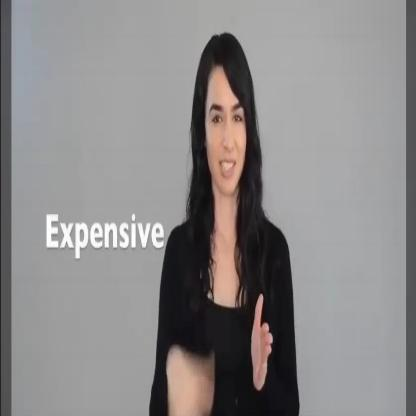Expensive: (158, 298, 283, 412)
